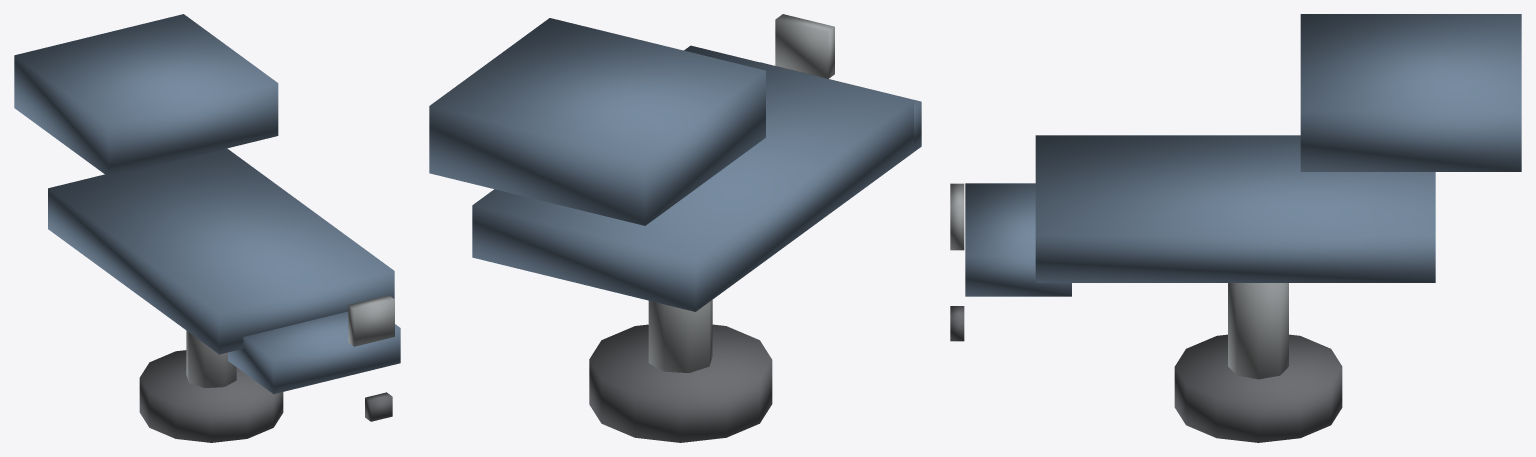
Rendered from dentist_chair__weathered.glb.
The picture shows the model from 3 angles, left to right: view 1: azimuth 30°, elevation 25°; view 2: azimuth 150°, elevation 25°; view 3: azimuth 270°, elevation 25°; orthographic projection. The views are drawn at different scales.
Visible parts, largest first — view 1: world; view 2: world; view 3: world.
Boxes of the visible parts, <box> form: world: <box>14,14,400,442</box>; world: <box>429,14,921,442</box>; world: <box>950,14,1521,442</box>.
Size of the model in its own units: 0.62 by 0.9999 by 1.5.
